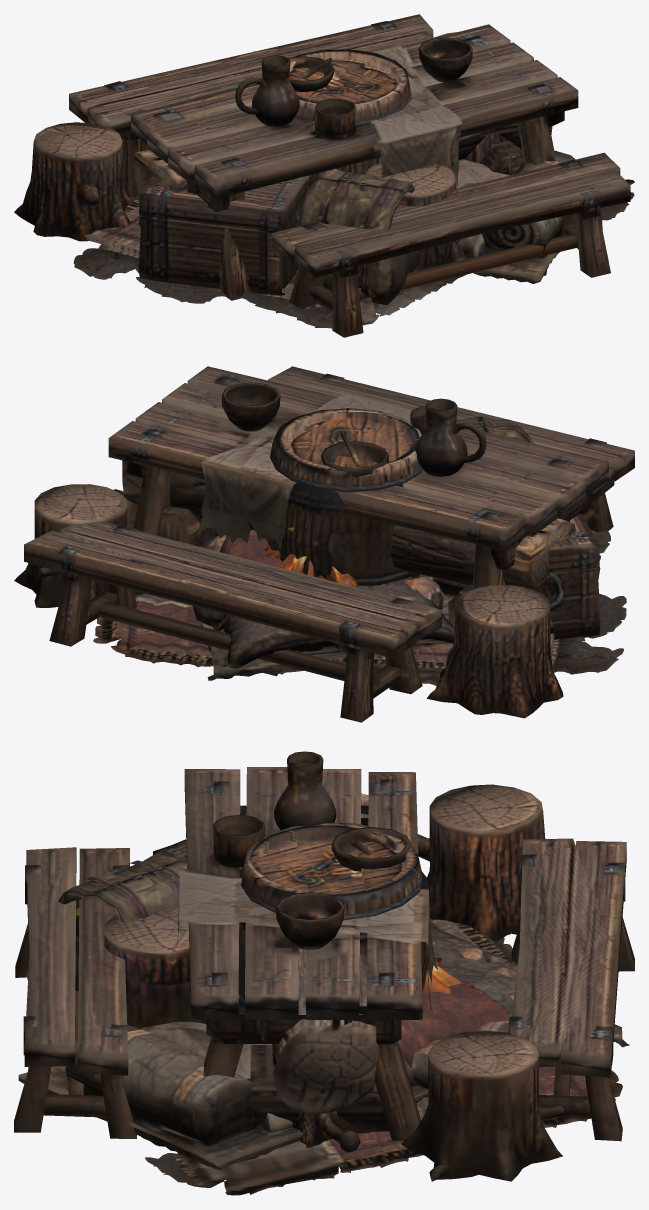
Rendered from kit-camp-seating.glb.
3 renders of one model, top to bottom at view 1: azimuth 30°, elevation 25°; view 2: azimuth 150°, elevation 25°; view 3: azimuth 270°, elevation 25°, orthographic. The views are drawn at different scales.
Parts seen in each view (by area): view 1: seating_06_dining_table, seating_05_bedroll, seating_03_stump_circle, seating_01_rug, seating_04_dice_barrel, seating_02_log_bench; view 2: seating_06_dining_table, seating_03_stump_circle, seating_04_dice_barrel, seating_05_bedroll, seating_01_rug, seating_02_log_bench; view 3: seating_06_dining_table, seating_03_stump_circle, seating_05_bedroll, seating_04_dice_barrel, seating_02_log_bench, seating_01_rug.
Boxes of the visible parts, x1,y1,x2,y2 form: seating_06_dining_table: (69,14,630,337); seating_05_bedroll: (138,150,575,304); seating_03_stump_circle: (14,32,466,271); seating_01_rug: (73,159,634,328); seating_04_dice_barrel: (289,49,506,184); seating_02_log_bench: (133,123,552,200); seating_06_dining_table: (24,366,634,722); seating_03_stump_circle: (14,484,563,718); seating_04_dice_barrel: (195,408,468,585); seating_05_bedroll: (201,416,600,680); seating_01_rug: (93,489,626,686); seating_02_log_bench: (122,460,575,627); seating_06_dining_table: (14,751,634,1141); seating_03_stump_circle: (104,784,564,1181); seating_05_bedroll: (18,839,629,1169); seating_04_dice_barrel: (238,822,431,1152); seating_02_log_bench: (250,793,388,1131); seating_01_rug: (26,919,622,1195).
Bounding box in the file's own units: 3.32 × 1.15 × 2.75.
Materials: 1 (1 with a texture image).
